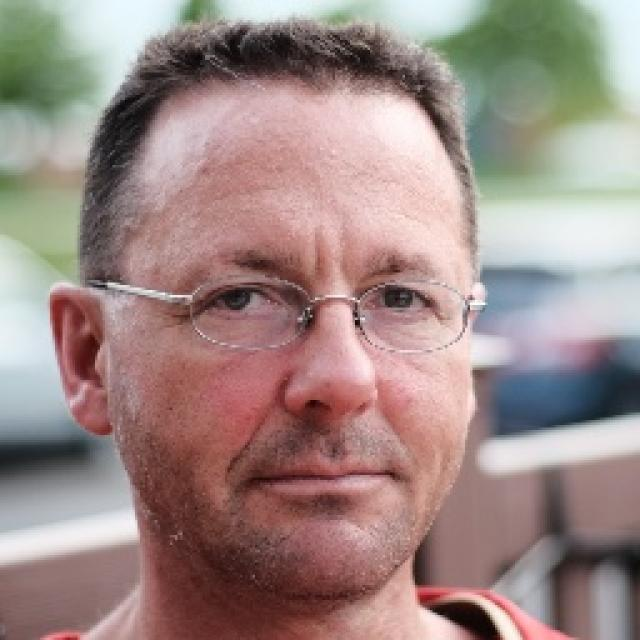earlobe: (48, 281, 112, 437)
